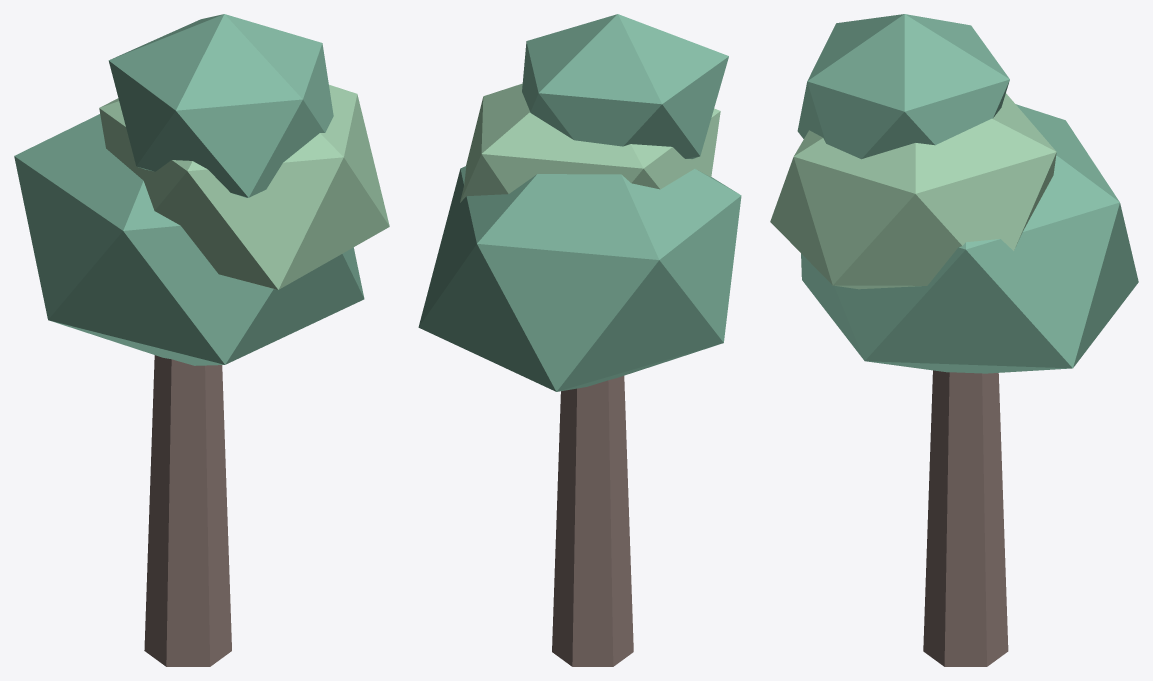
The model's file is arvore_campina_a_sem_textura.glb.
The picture shows the model from 3 angles, left to right: view 1: azimuth 30°, elevation 25°; view 2: azimuth 150°, elevation 25°; view 3: azimuth 270°, elevation 25°; orthographic projection. The views are drawn at different scales.
Parts seen in each view (by area): view 1: arvore_campina_a; view 2: arvore_campina_a; view 3: arvore_campina_a.
Boxes of the visible parts, x1,y1,x2,y2 form: arvore_campina_a: (14, 14, 389, 666); arvore_campina_a: (418, 14, 741, 666); arvore_campina_a: (770, 14, 1138, 666).
Size of the model in its own units: 0.672 by 1.49 by 0.7796.
